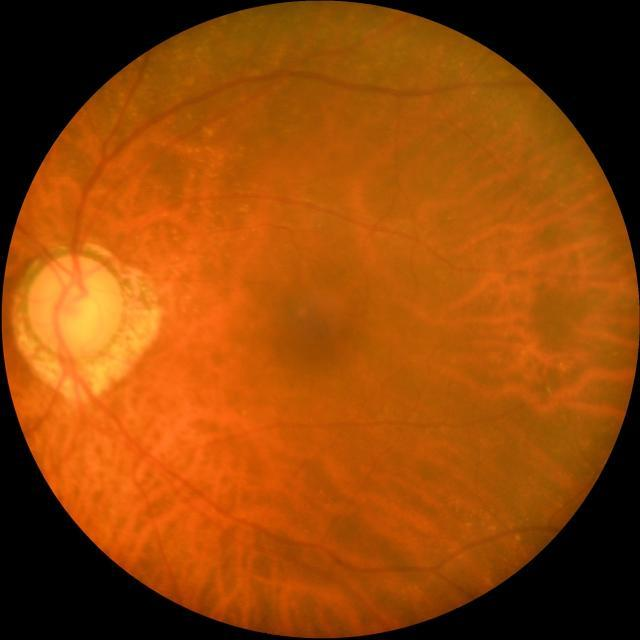OC: (54, 284, 104, 342)
OD: (26, 255, 121, 358)
